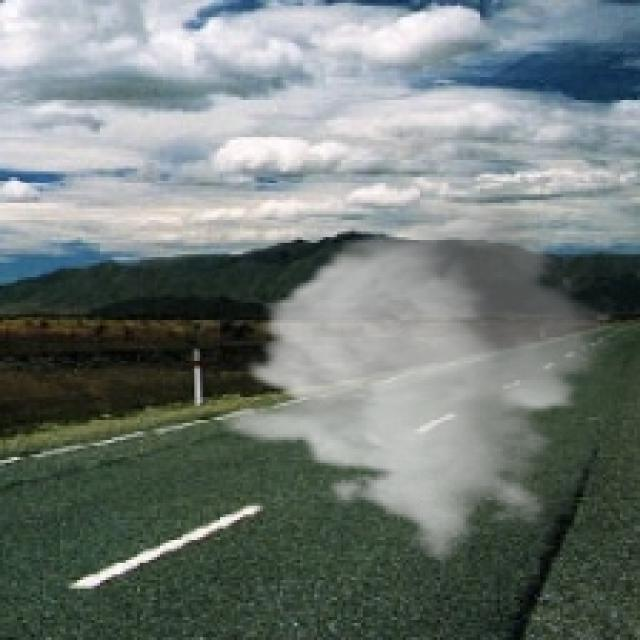smoke: (217, 194, 620, 563)
